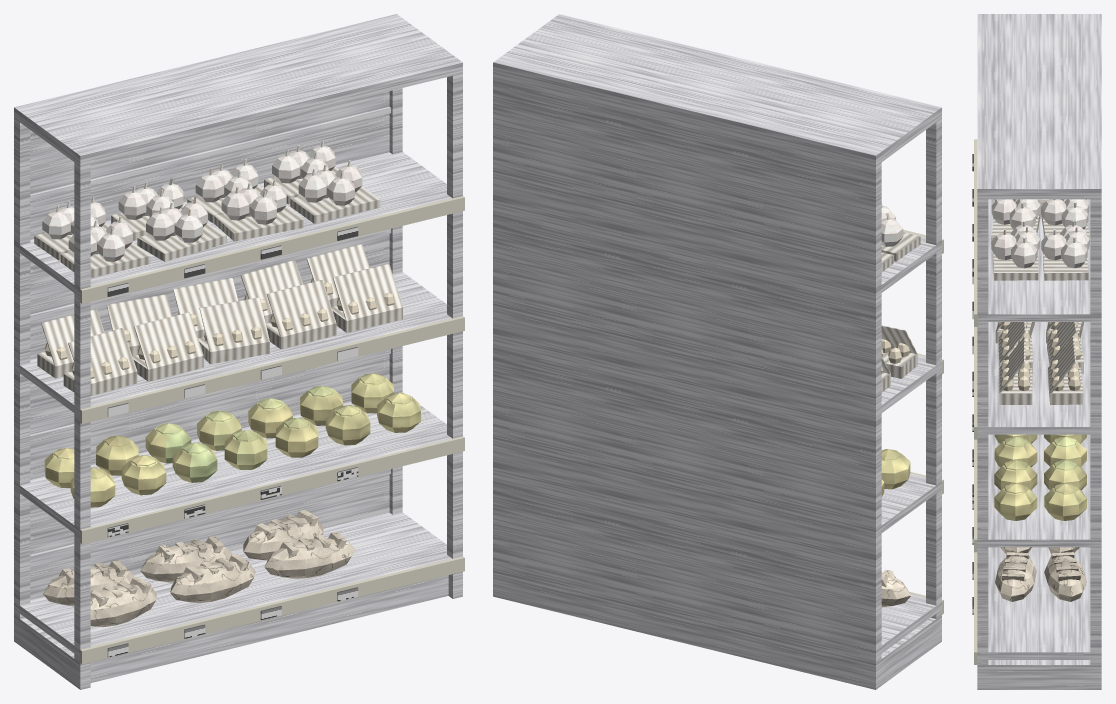
3 views of the same model, side by side, from view 1: azimuth 30°, elevation 25°; view 2: azimuth 150°, elevation 25°; view 3: azimuth 270°, elevation 25° (orthographic). The views are drawn at different scales.
Visible parts, largest first — view 1: metallo_003, metallo_001, metallo_000, liscio_005, metallo_004, metallo_002, cartone_065, cartone_077, cartone_059, cartone_071, crosta_019, crosta_015 (+44 smaller); view 2: metallo_001, metallo_003, metallo_000, metallo_004, erba_023, crosta_011; view 3: metallo_003, metallo_000, metallo_004, metallo_001, liscio_005, crosta_019, crosta_017, erba_045, erba_047, pelle_108, pelle_104, cartone_107 (+28 smaller).
Part boxes in pixels (x1=…): metallo_003: x1=14, y1=14, x2=462, y2=656; metallo_001: x1=14, y1=14, x2=398, y2=642; metallo_000: x1=14, y1=14, x2=462, y2=689; liscio_005: x1=79, y1=196, x2=464, y2=664; metallo_004: x1=17, y1=575, x2=448, y2=686; metallo_002: x1=30, y1=107, x2=390, y2=561; cartone_065: x1=199, y1=297, x2=269, y2=352; cartone_077: x1=333, y1=264, x2=402, y2=320; cartone_059: x1=134, y1=312, x2=203, y2=369; cartone_071: x1=266, y1=280, x2=336, y2=337; crosta_019: x1=264, y1=538, x2=354, y2=578; crosta_015: x1=170, y1=561, x2=255, y2=602; metallo_001: x1=493, y1=62, x2=878, y2=689; metallo_003: x1=493, y1=15, x2=941, y2=656; metallo_000: x1=493, y1=14, x2=941, y2=689; metallo_004: x1=878, y1=618, x2=937, y2=687; erba_023: x1=881, y1=452, x2=910, y2=489; crosta_011: x1=881, y1=572, x2=910, y2=607; metallo_003: x1=977, y1=14, x2=1101, y2=659; metallo_000: x1=977, y1=14, x2=1101, y2=689; metallo_004: x1=986, y1=660, x2=1095, y2=689; metallo_001: x1=1096, y1=14, x2=1101, y2=689; liscio_005: x1=974, y1=139, x2=978, y2=664; crosta_019: x1=995, y1=552, x2=1036, y2=601; crosta_017: x1=1044, y1=552, x2=1086, y2=601; erba_045: x1=1044, y1=484, x2=1086, y2=520; erba_047: x1=994, y1=485, x2=1037, y2=520; pelle_108: x1=1010, y1=225, x2=1040, y2=268; pelle_104: x1=1060, y1=225, x2=1089, y2=268; cartone_107: x1=993, y1=251, x2=1038, y2=280.
Bounding box in the file's own units: 1.5 × 2 × 0.467.
19 materials, 17 textured.
